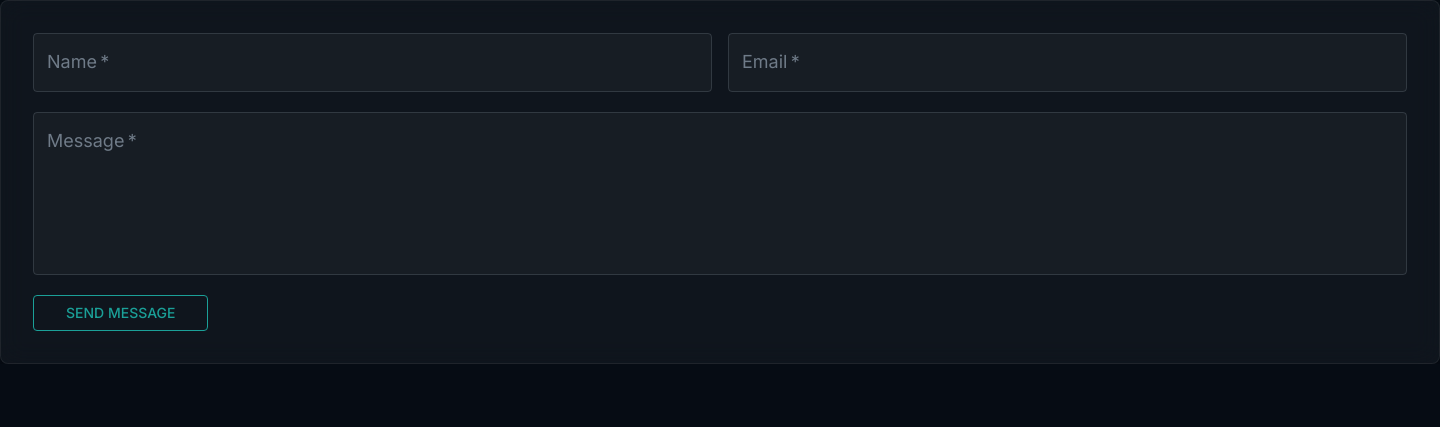
Test: ContactForm › shows error message on failed submission
Type "Alex" into the field labelled "Name *" at (372, 62), box left=33, top=33, right=712, bottom=92
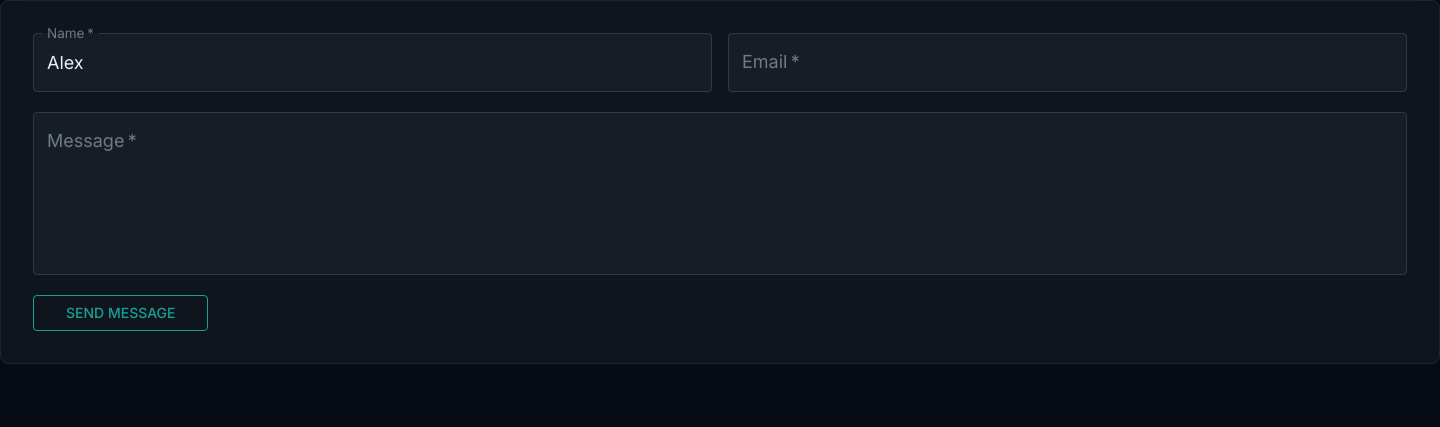
Type "a@b.com" into the field labelled "Email *" at (1068, 62), box left=728, top=33, right=1407, bottom=92
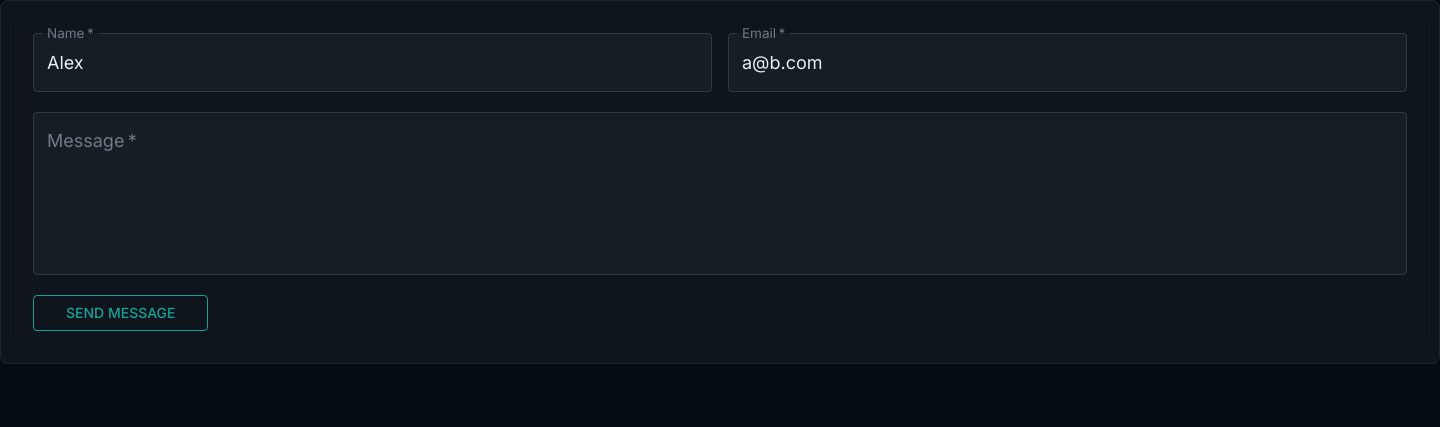
Type "Hello" into the text box labelled "Message *" at (720, 193), box left=47, top=128, right=1393, bottom=258
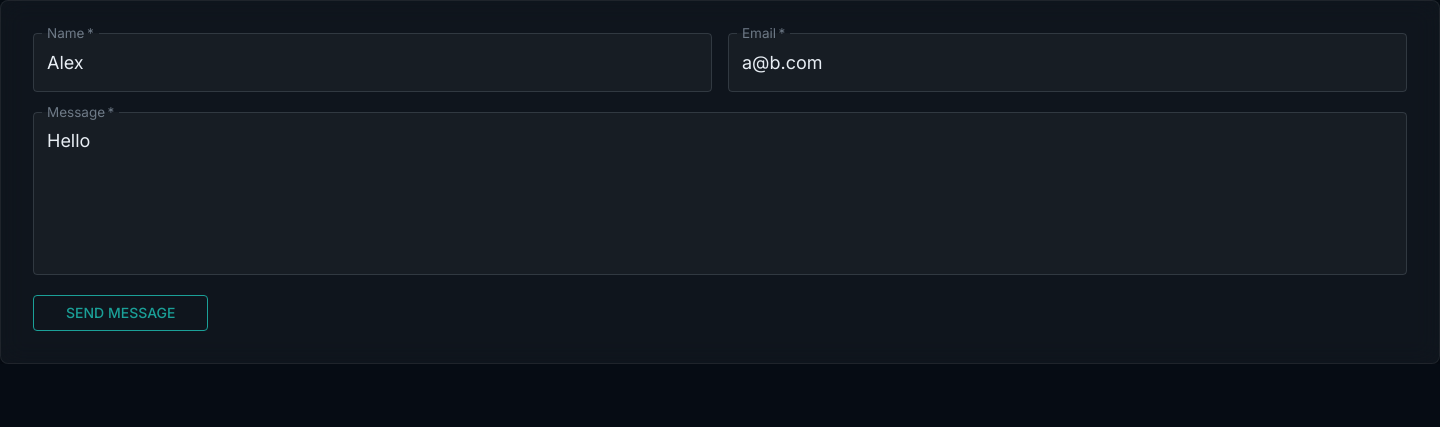
Submit the form "Name * Email * Message * Send message"
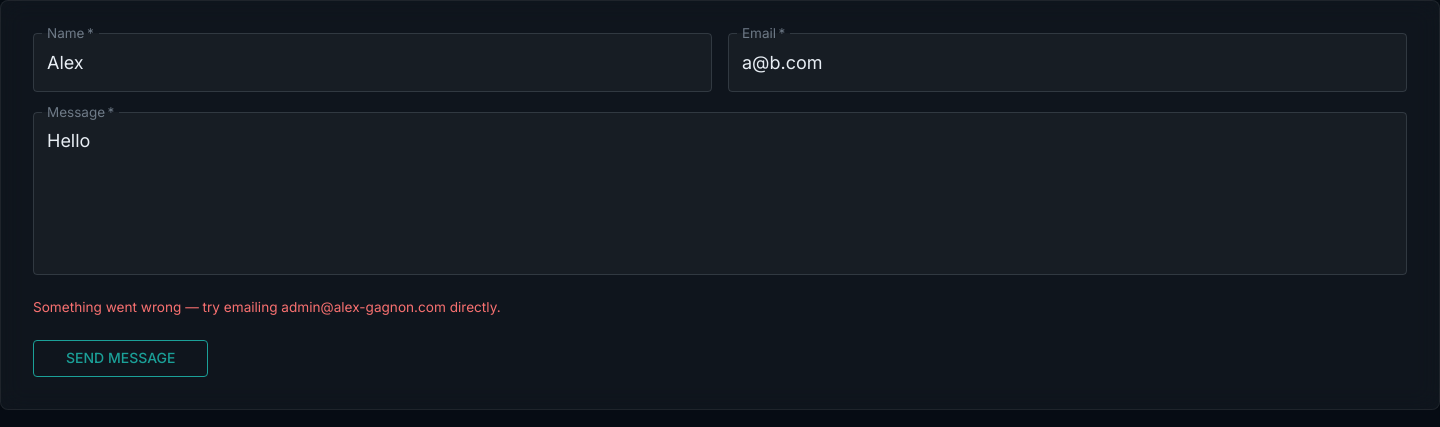
Result: the text "Something went wrong" is shown at left=33, top=299, right=501, bottom=315
